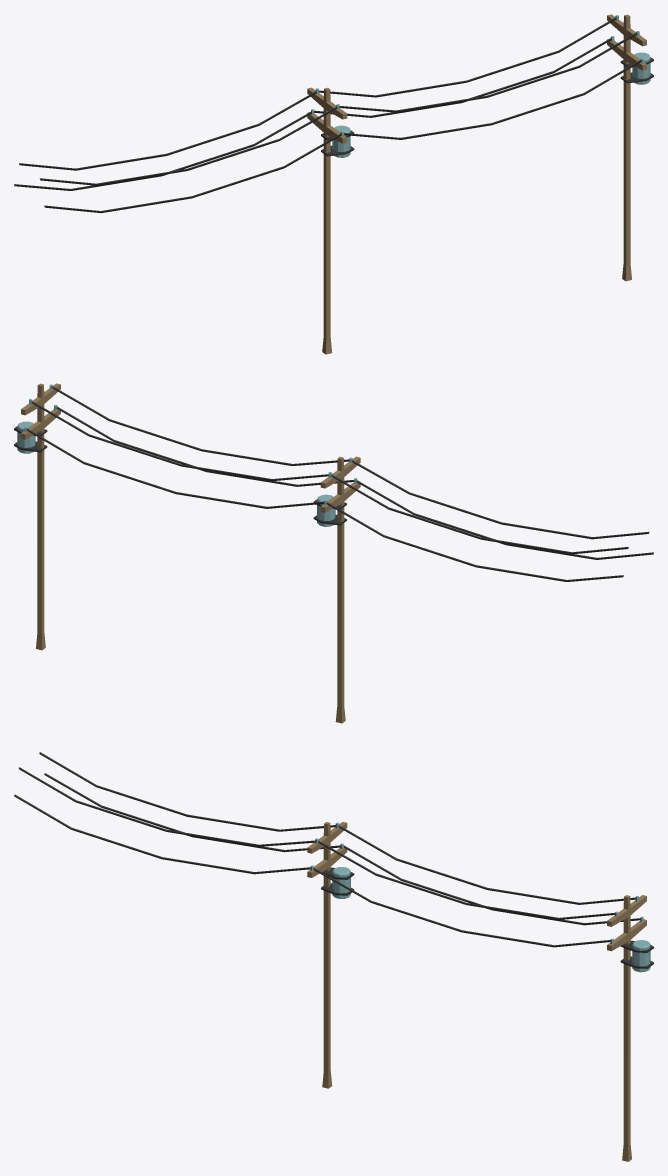
File: model_polytope_powerlines01.fbx
3 renders of one model, top to bottom at view 1: azimuth 30°, elevation 25°; view 2: azimuth 150°, elevation 25°; view 3: azimuth 330°, elevation 25°, orthographic.
Visible parts, largest first — view 1: model_polytope_powerlines01; view 2: model_polytope_powerlines01; view 3: model_polytope_powerlines01.
Boxes of the visible parts, x1=… form: model_polytope_powerlines01: x1=14, y1=14, x2=653, y2=354; model_polytope_powerlines01: x1=14, y1=383, x2=653, y2=723; model_polytope_powerlines01: x1=14, y1=752, x2=653, y2=1161.
Bounding box in the file's own units: 1860 × 754 × 184.
Materials: 1 (1 with a texture image).
